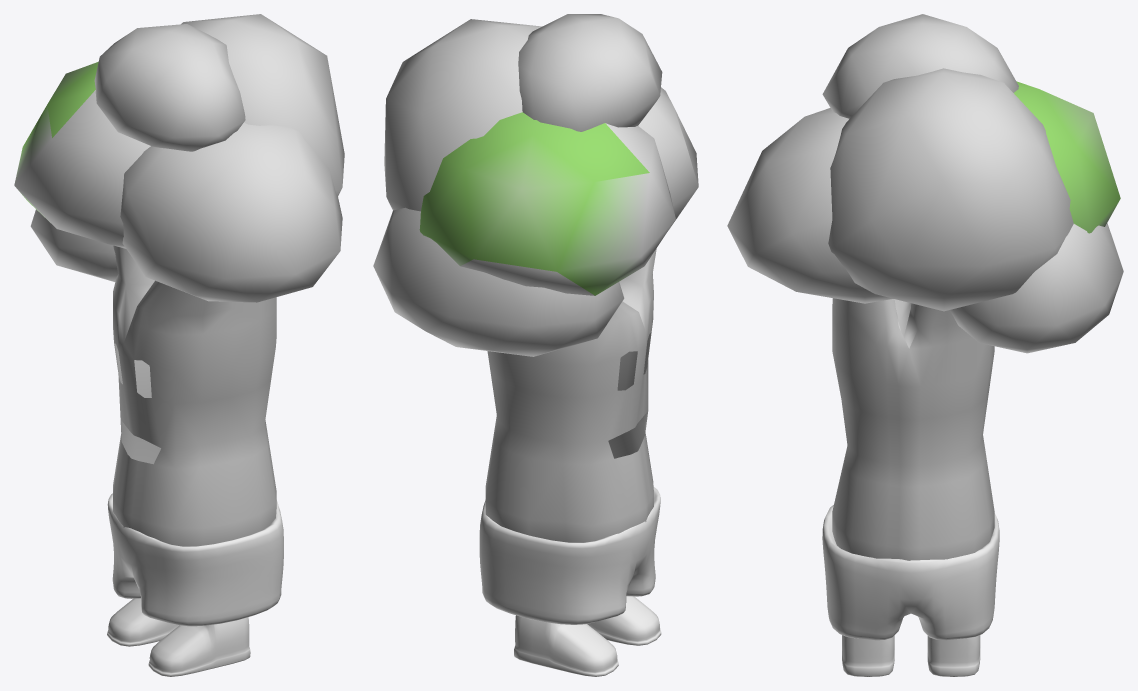
File: paul_pants.fbx
3 renders of one model, left to right at view 1: azimuth 30°, elevation 25°; view 2: azimuth 150°, elevation 25°; view 3: azimuth 270°, elevation 25°, orthographic. The views are drawn at different scales.
Parts seen in each view (by area): view 1: paul, Icosphere.001, Icosphere.004, kopf, pants, Icosphere.002, shoes, Icosphere.003; view 2: kopf, paul, Icosphere.003, Icosphere.002, pants, Icosphere.004, shoes, Icosphere.001; view 3: Icosphere.002, paul, Icosphere.001, pants, Icosphere.003, Icosphere.004, kopf, shoes.
Boxes of the visible parts, bbox=[...] form: paul: bbox=[113, 245, 276, 546]; Icosphere.001: bbox=[120, 122, 342, 302]; Icosphere.004: bbox=[94, 24, 245, 151]; kopf: bbox=[14, 62, 150, 248]; pants: bbox=[107, 493, 283, 626]; Icosphere.002: bbox=[181, 14, 344, 195]; shoes: bbox=[107, 598, 250, 676]; Icosphere.003: bbox=[30, 209, 117, 281]; kopf: bbox=[419, 112, 675, 295]; paul: bbox=[485, 248, 656, 542]; Icosphere.003: bbox=[373, 207, 624, 356]; Icosphere.002: bbox=[384, 19, 542, 211]; pants: bbox=[479, 487, 660, 624]; Icosphere.004: bbox=[518, 14, 662, 131]; shoes: bbox=[514, 596, 661, 676]; Icosphere.001: bbox=[638, 87, 698, 229]; Icosphere.002: bbox=[828, 68, 1073, 311]; paul: bbox=[832, 298, 994, 560]; Icosphere.001: bbox=[727, 108, 893, 303]; pants: bbox=[822, 505, 999, 640]; Icosphere.003: bbox=[950, 223, 1123, 353]; Icosphere.004: bbox=[822, 14, 1018, 118]; kopf: bbox=[1014, 81, 1120, 233]; shoes: bbox=[842, 635, 980, 676].
Size of the model in its own units: 3.86 by 8.25 by 4.71.
